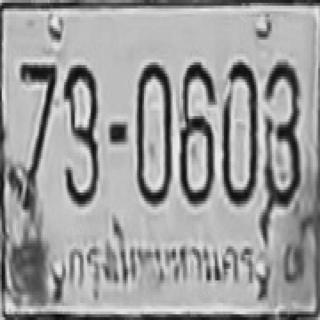N00: (220, 60, 258, 204), (136, 60, 172, 204)
N03: (262, 61, 300, 205), (63, 64, 99, 205)
N06: (179, 60, 216, 204)
N07: (19, 61, 56, 211), (20, 62, 57, 167)
P04: (62, 228, 265, 304)
